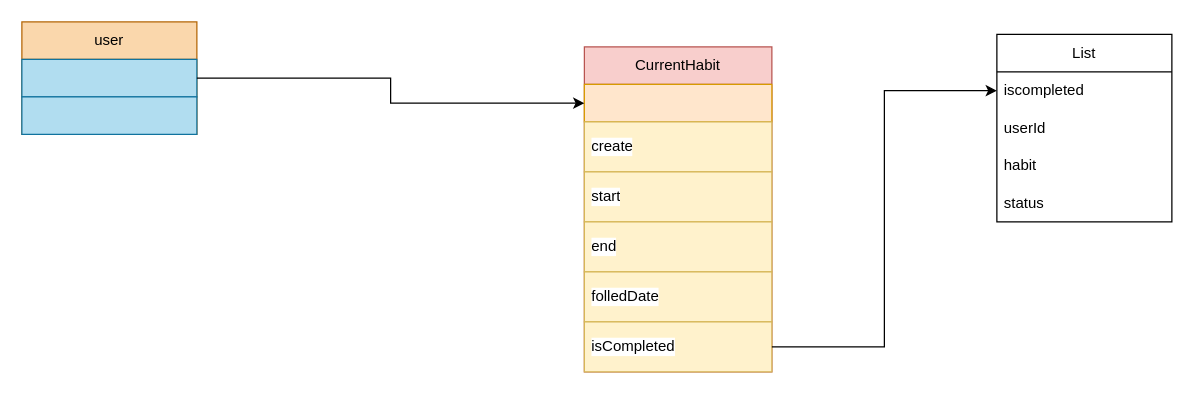
This 1194x394 diagram has some shape labels left out. Here are the shapes that lost their labels. From the top down, the centre of each, then its label:
point (109, 77): usernname
point (109, 115): password
point (677, 102): curretnHabit
